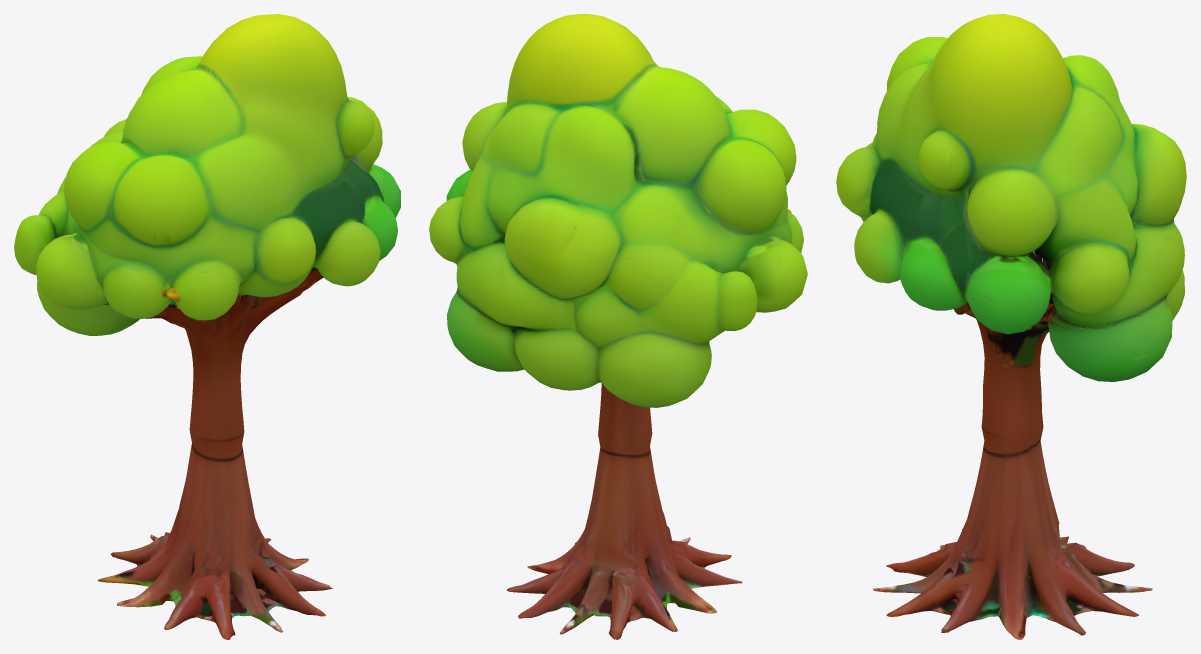
Rendered from tree3d.fbx.
3 renders of one model, left to right at view 1: azimuth 30°, elevation 25°; view 2: azimuth 150°, elevation 25°; view 3: azimuth 270°, elevation 25°, orthographic. The views are drawn at different scales.
Visible parts, largest first — view 1: model; view 2: model; view 3: model.
Boxes of the visible parts, x1=… form: model: x1=14, y1=14, x2=400, y2=639; model: x1=429, y1=14, x2=807, y2=639; model: x1=836, y1=14, x2=1186, y2=639.
Bounding box in the file's own units: 124 × 188 × 100.
